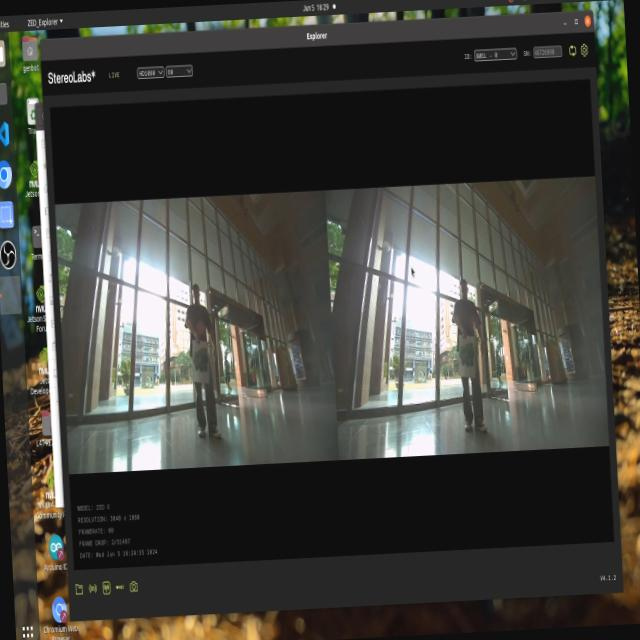green: (190, 338, 226, 382), (455, 336, 479, 381)
